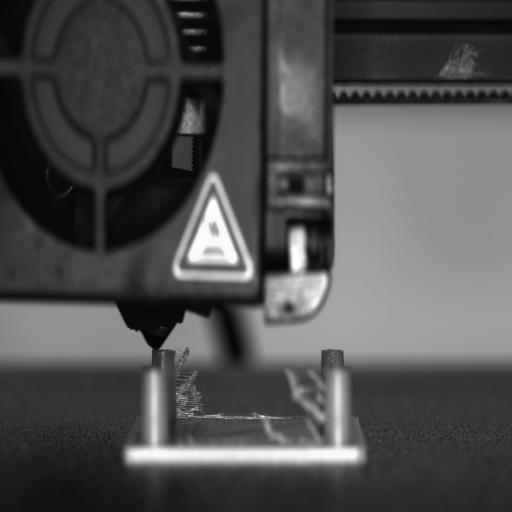spaghetti_and_stringing: (170, 349, 320, 432)
